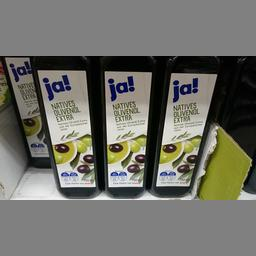oil: (32, 55, 99, 198), (148, 54, 214, 196), (100, 55, 154, 198)
